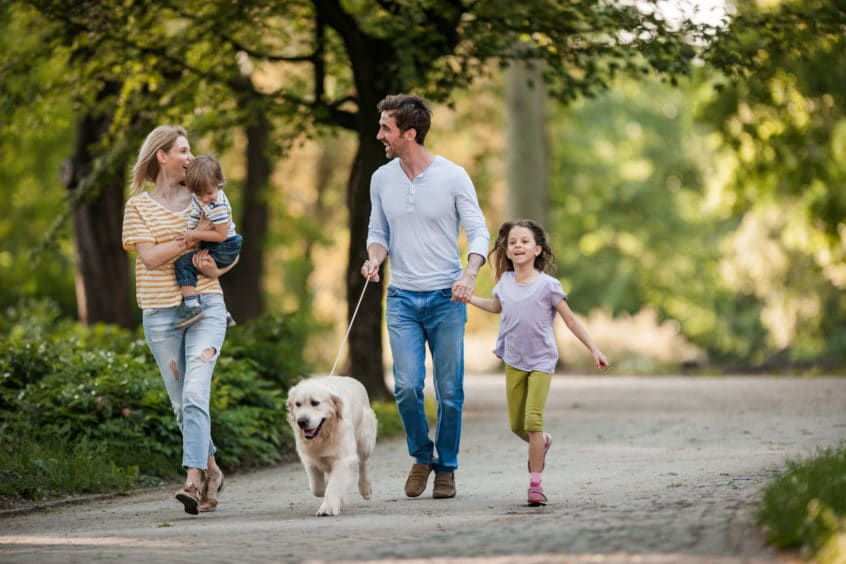person: (367, 95, 488, 498), (496, 220, 607, 506)
